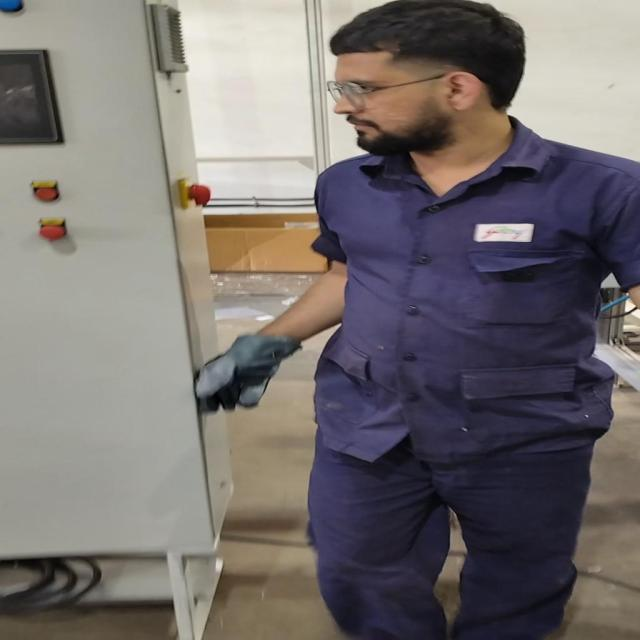Gloves-Detection: (182, 318, 309, 432)
